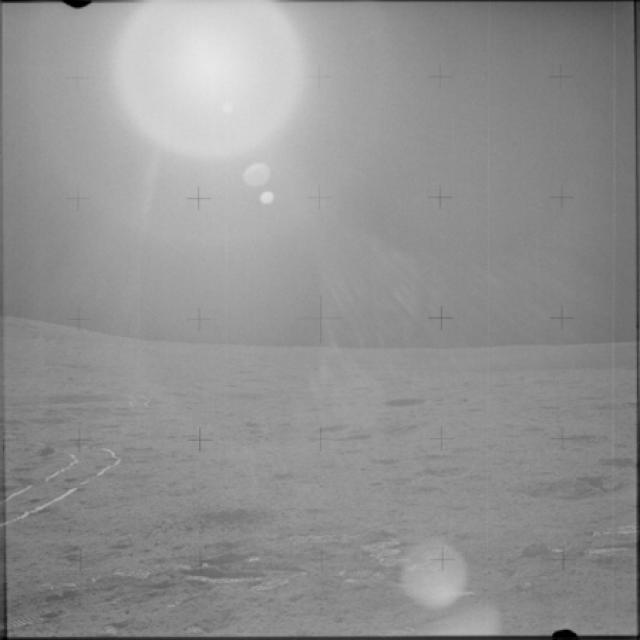crater: (163, 504, 300, 548), (511, 468, 638, 509), (374, 390, 442, 412), (416, 459, 471, 486), (330, 427, 386, 447), (368, 452, 412, 470), (315, 415, 348, 435)
